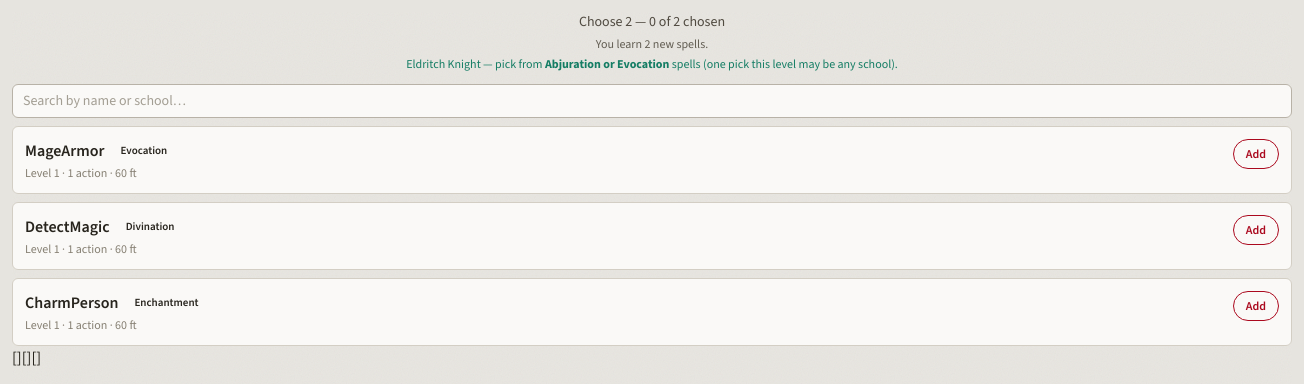
NewSpellsStep — Eldritch Knight (2014) spell-school gate (#1855) › with ONE free pick, an off-school spell is selectable — and using it disables further off-school picks
Click the button with aria-label "Add DetectMagic": x=1256, y=230 [1233, 215, 1279, 245]
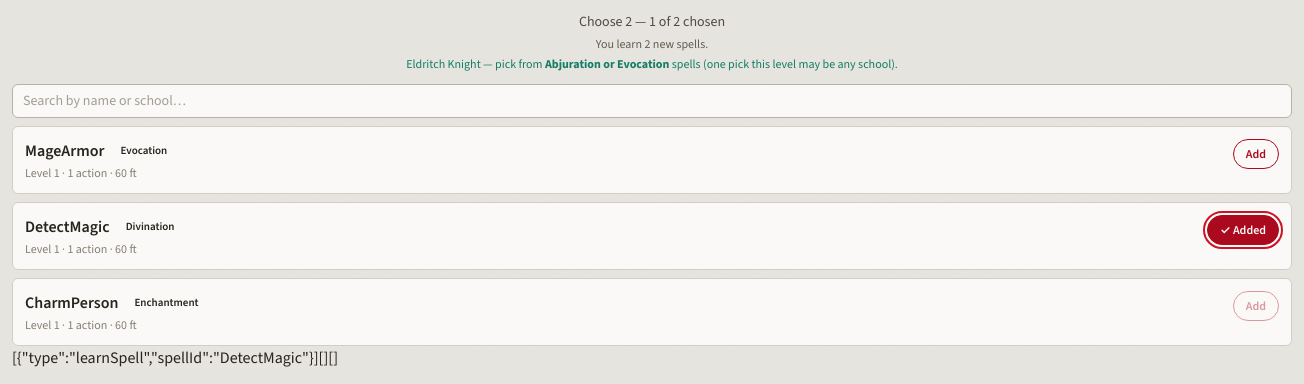
Expected: the button with aria-label "Add MageArmor" is enabled, [1233, 139, 1279, 169]
Expected: the button with aria-label "Add CharmPerson" is disabled, [1233, 291, 1279, 321]
